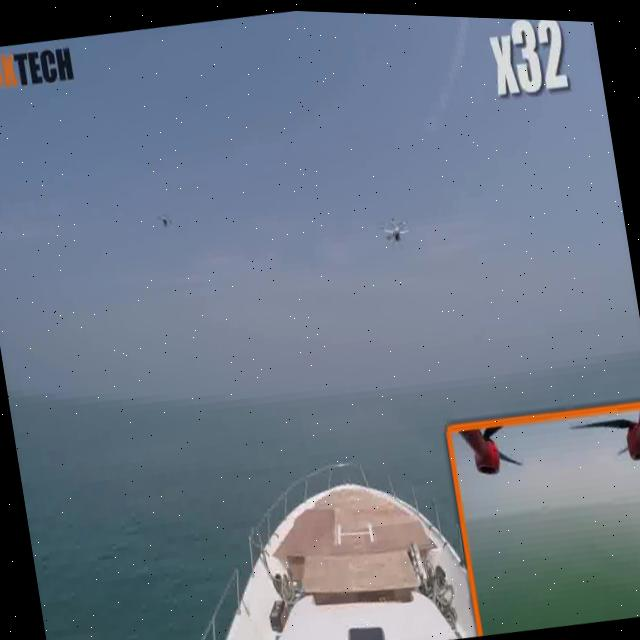drone: (371, 200, 422, 264), (150, 194, 184, 248)
